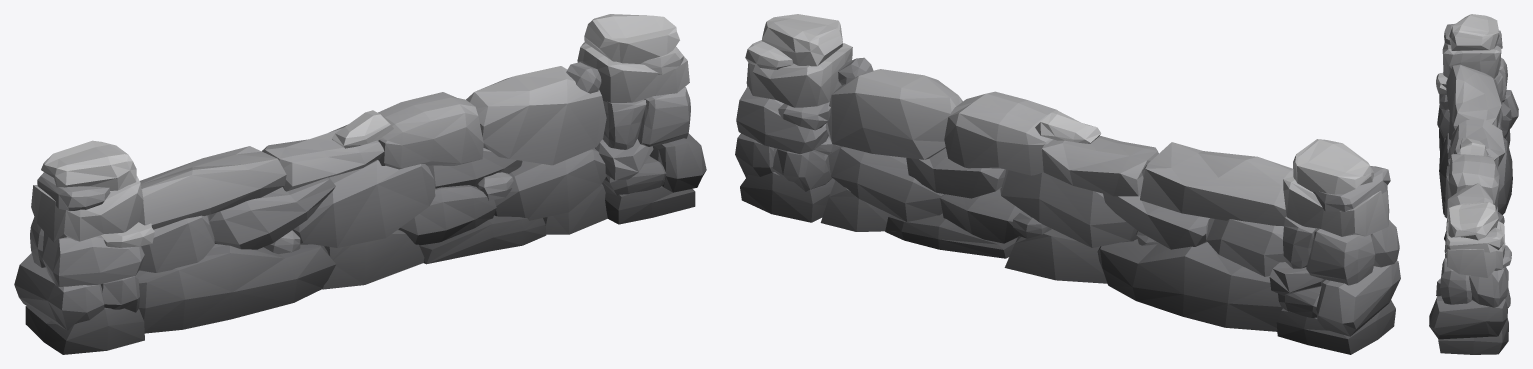
Rendered from RoadFenceStone_Lrg-01.FBX.
The picture shows the model from 3 angles, left to right: view 1: azimuth 30°, elevation 25°; view 2: azimuth 150°, elevation 25°; view 3: azimuth 270°, elevation 25°; orthographic projection. The views are drawn at different scales.
Visible parts, largest first — view 1: RoadFenceStone_Lrg-01; view 2: RoadFenceStone_Lrg-01; view 3: RoadFenceStone_Lrg-01.
Boxes of the visible parts, x1,y1,x2,y2 form: RoadFenceStone_Lrg-01: [14, 14, 706, 354]; RoadFenceStone_Lrg-01: [735, 14, 1400, 354]; RoadFenceStone_Lrg-01: [1429, 14, 1518, 354].
Bounding box in the file's own units: 487 × 130 × 82.21.
1 material, 1 textured.
